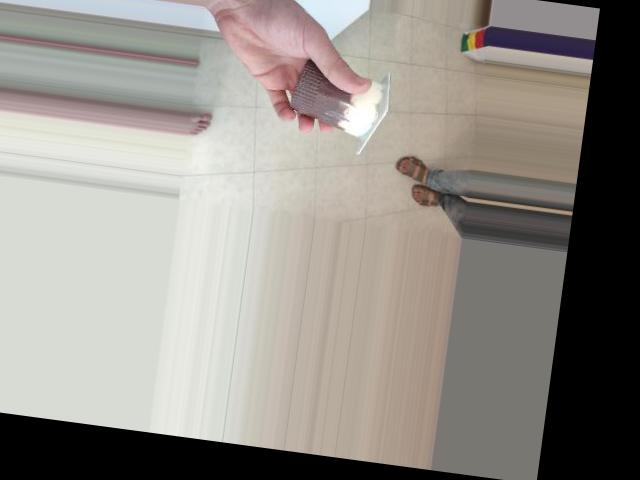milky: (275, 53, 394, 146)
